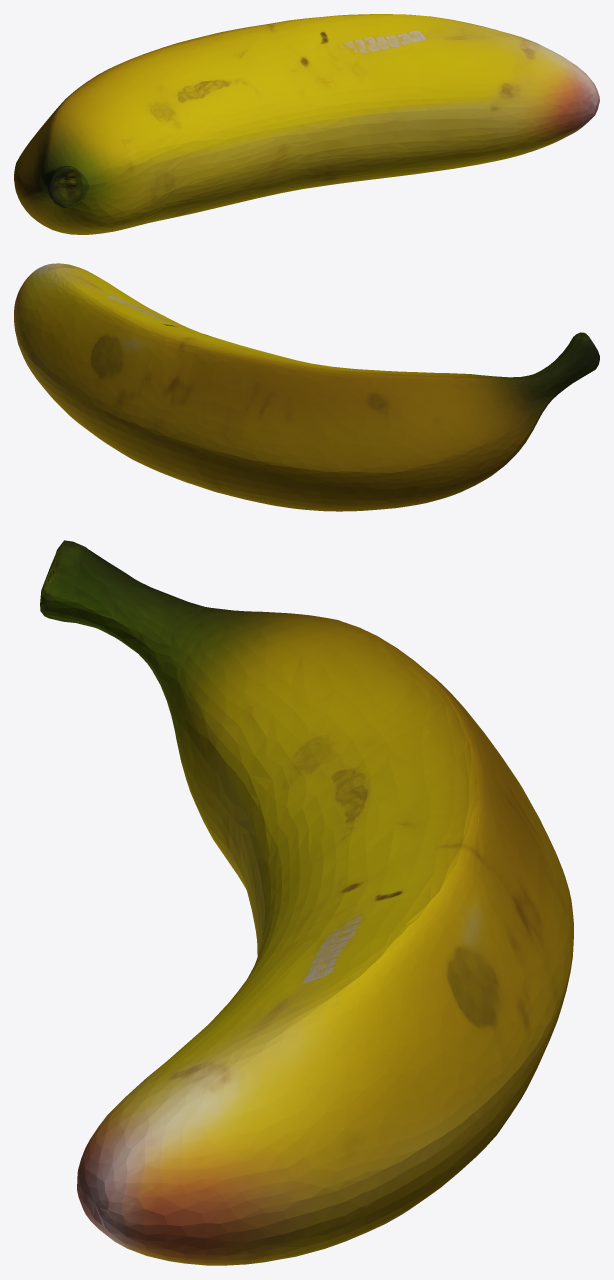
3 renders of one model, top to bottom at view 1: azimuth 30°, elevation 25°; view 2: azimuth 150°, elevation 25°; view 3: azimuth 270°, elevation 25°, orthographic. The views are drawn at different scales.
Parts seen in each view (by area): view 1: world; view 2: world; view 3: world.
Boxes of the visible parts, left/top/right/bottom form: world: left=14, top=14, right=599, bottom=234; world: left=14, top=263, right=599, bottom=511; world: left=40, top=540, right=573, bottom=1265.
Bounding box in the file's own units: 0.9961 × 0.2613 × 0.4161.
1 material, 1 textured.
